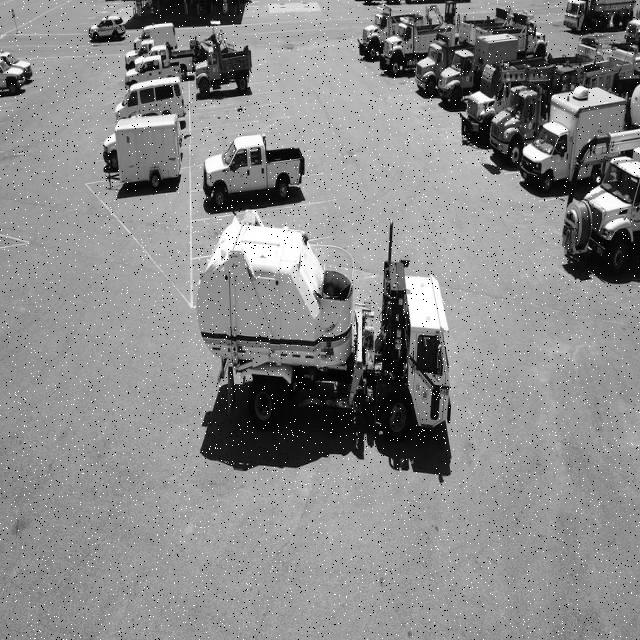Garbage Truck: (197, 210, 451, 441)
